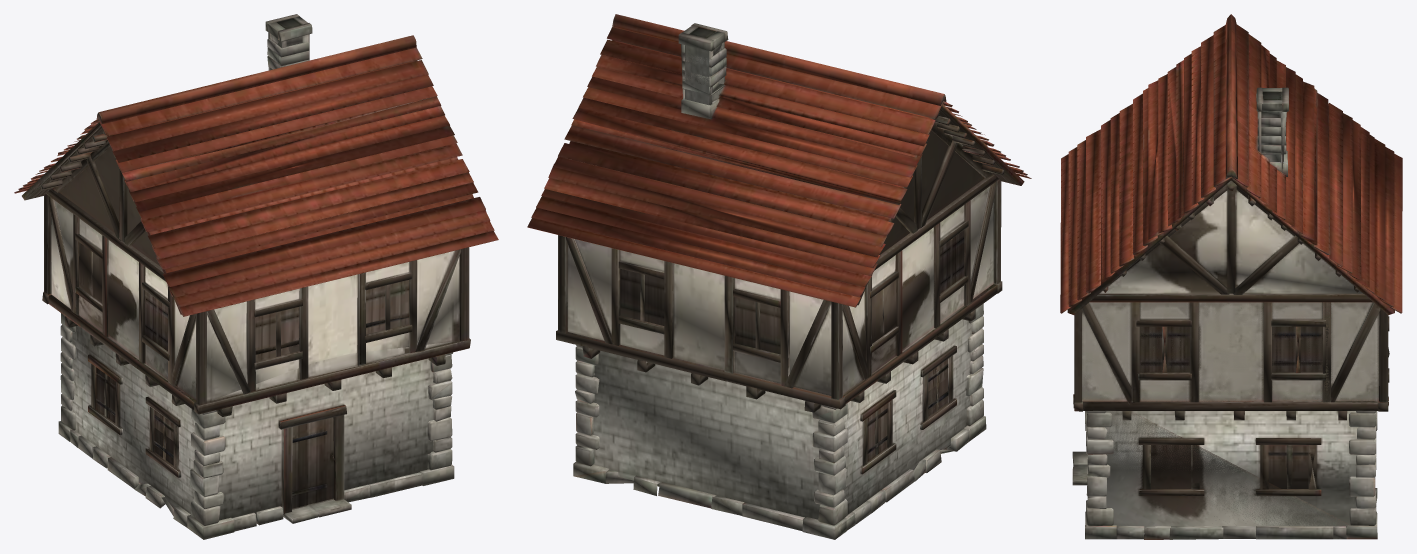
The model's file is townhouse_red.glb.
3 renders of one model, left to right at view 1: azimuth 30°, elevation 25°; view 2: azimuth 150°, elevation 25°; view 3: azimuth 270°, elevation 25°, orthographic. The views are drawn at different scales.
Size of the model in its own units: 0.7822 by 0.9531 by 0.7232.
1 material, 1 textured.
